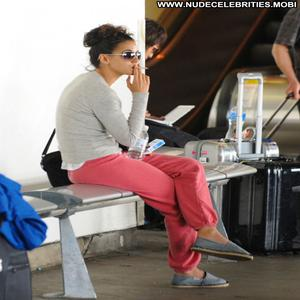cigarette: (138, 63, 150, 71)
